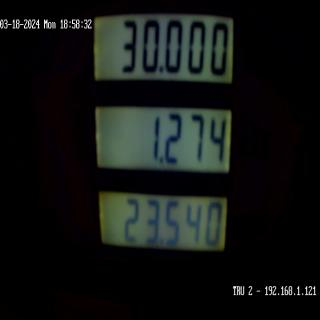screen: (88, 1, 242, 289)
